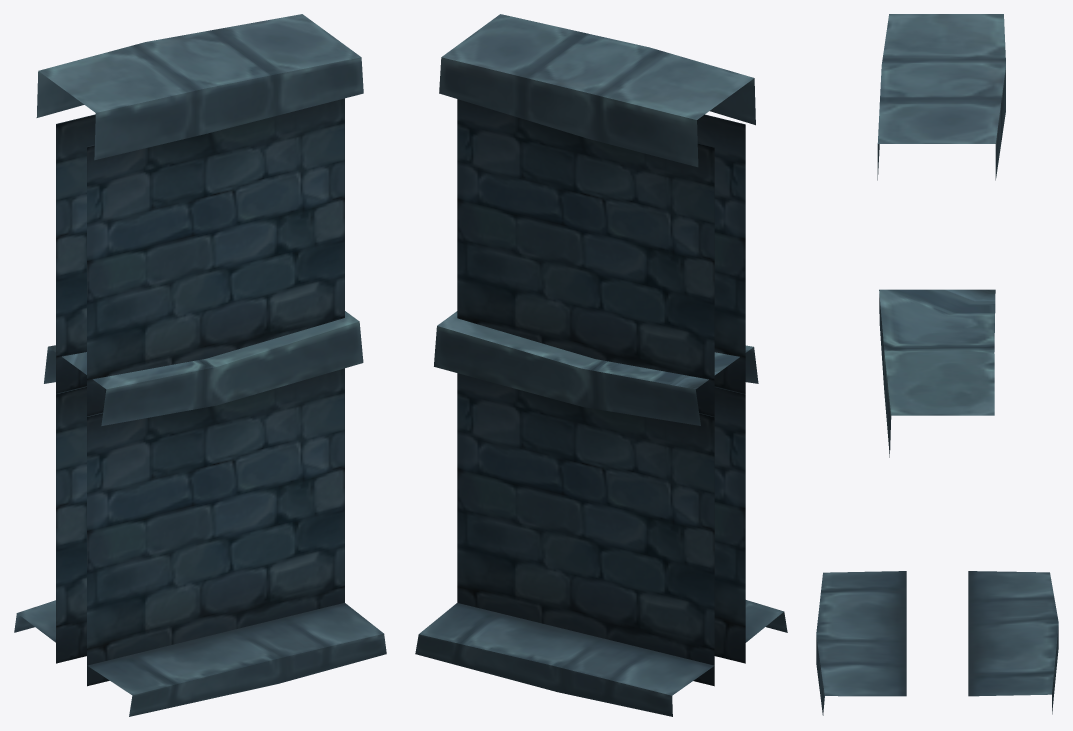
The model's file is SM_Wall_necropolis.fbx.
The picture shows the model from 3 angles, left to right: view 1: azimuth 30°, elevation 25°; view 2: azimuth 150°, elevation 25°; view 3: azimuth 270°, elevation 25°; orthographic projection.
Parts seen in each view (by area): view 1: wall_01_necropolis; view 2: wall_01_necropolis; view 3: wall_01_necropolis.
Boxes of the visible parts, bbox=[...] form: wall_01_necropolis: bbox=[14, 14, 386, 716]; wall_01_necropolis: bbox=[415, 14, 787, 716]; wall_01_necropolis: bbox=[816, 14, 1058, 715].
Bounding box in the file's own units: 105 × 215 × 81.8.
Materials: 1 (1 with a texture image).
